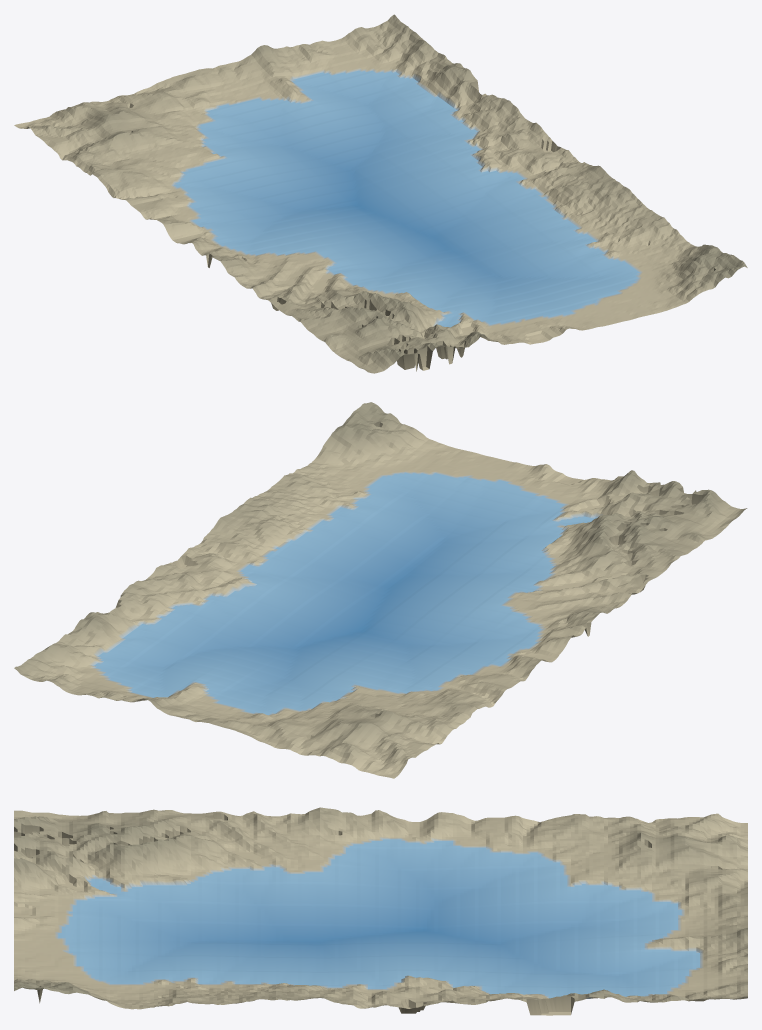
Rendered from lake_tahoe_ca.glb.
The picture shows the model from 3 angles, top to bottom: view 1: azimuth 30°, elevation 25°; view 2: azimuth 150°, elevation 25°; view 3: azimuth 270°, elevation 25°; orthographic projection. The views are drawn at different scales.
Parts seen in each view (by area): view 1: terrain, water; view 2: terrain, water; view 3: terrain, water.
Part boxes in pixels (x1,y1,x2,y2): terrain: (14,14,747,373); water: (174,70,639,327); terrain: (14,402,747,778); water: (94,472,596,715); terrain: (14,807,747,1015); water: (58,839,699,998).
Bounding box in the file's own units: 24818 × 2421 × 40030.
